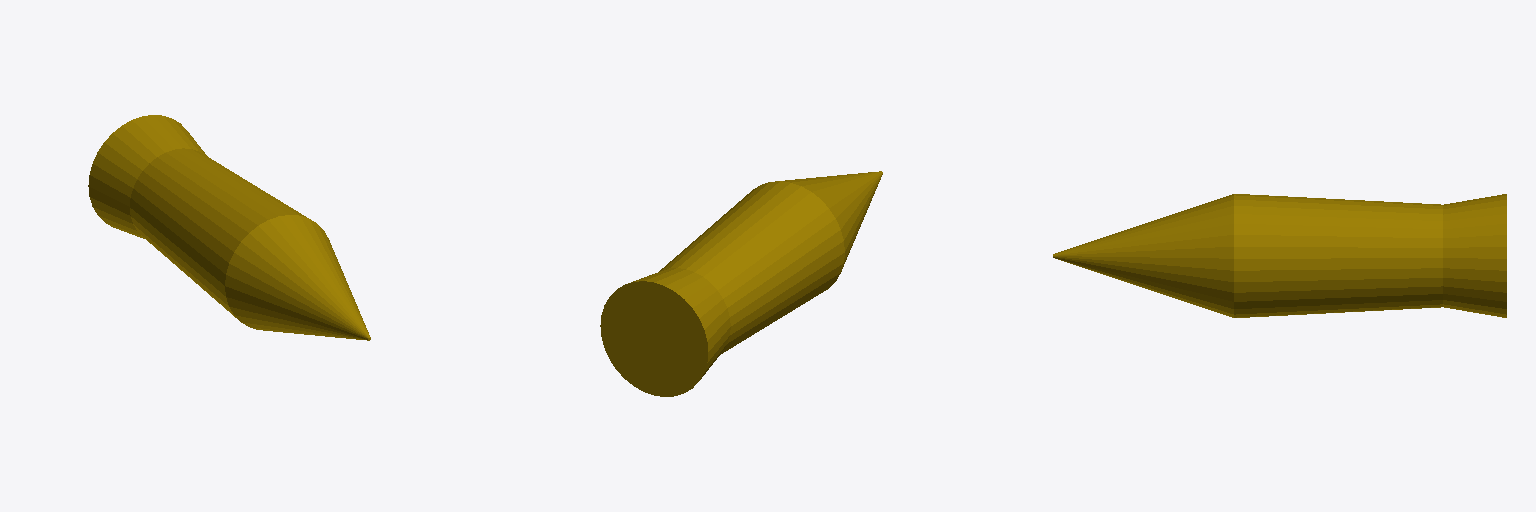
Rendered from missel_texture.obj.
3 views of the same model, side by side, from view 1: azimuth 30°, elevation 25°; view 2: azimuth 150°, elevation 25°; view 3: azimuth 270°, elevation 25° (orthographic).
Parts seen in each view (by area): view 1: Cylinder.002_Cylinder.003; view 2: Cylinder.002_Cylinder.003; view 3: Cylinder.002_Cylinder.003.
Boxes of the visible parts, x1=… form: Cylinder.002_Cylinder.003: x1=88, y1=115, x2=370, y2=340; Cylinder.002_Cylinder.003: x1=600, y1=171, x2=882, y2=396; Cylinder.002_Cylinder.003: x1=1053, y1=194, x2=1506, y2=317.
Size of the model in its own units: 0.1185 by 0.1185 by 0.4316.